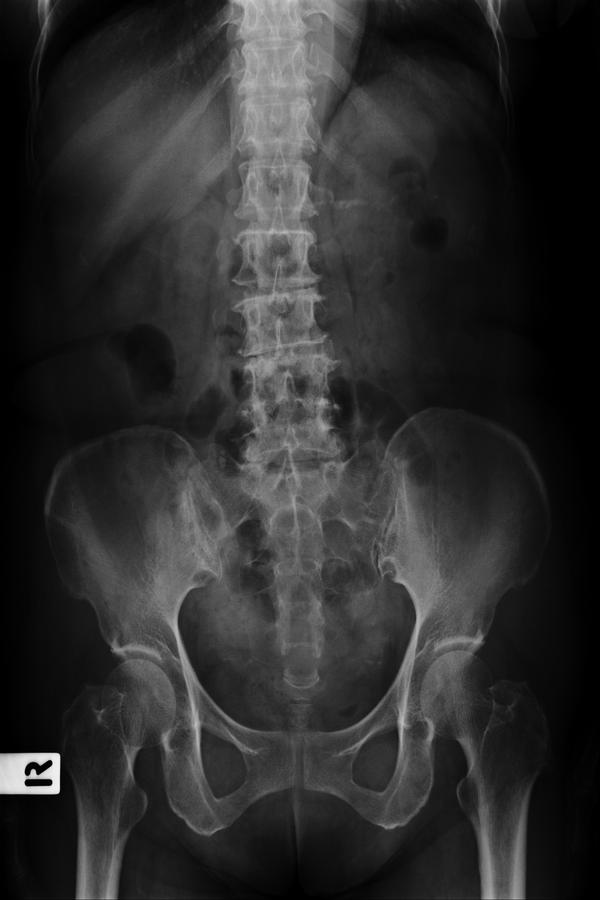lumbar scoliosis: (227, 174, 356, 524)
